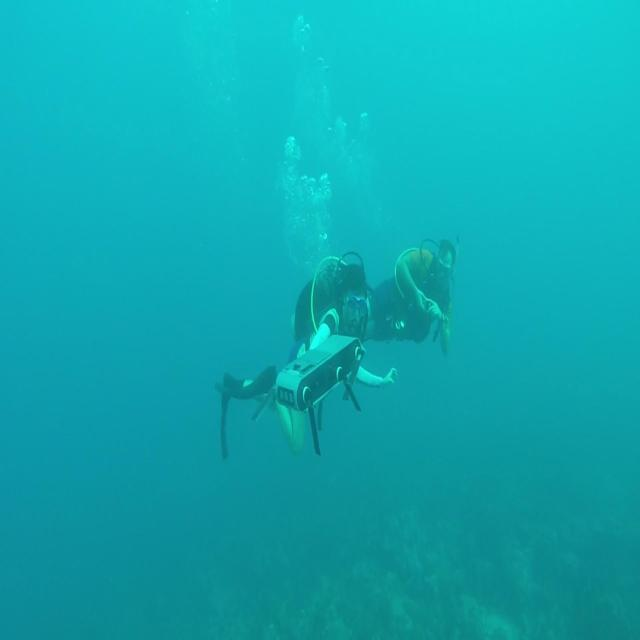human: (214, 251, 396, 460), (362, 237, 457, 356)
